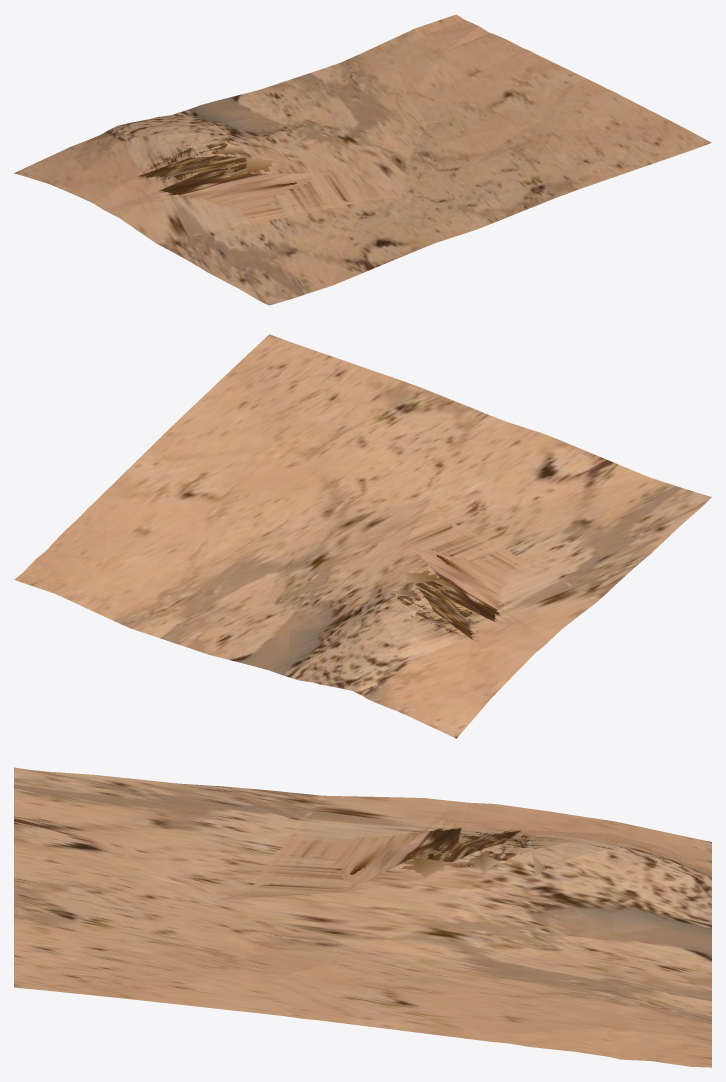
3 renders of one model, top to bottom at view 1: azimuth 30°, elevation 25°; view 2: azimuth 150°, elevation 25°; view 3: azimuth 270°, elevation 25°, orthographic. The views are drawn at different scales.
Bounding box in the file's own units: 2.09 × 0.4939 × 2.09.
3 materials, 3 textured.
